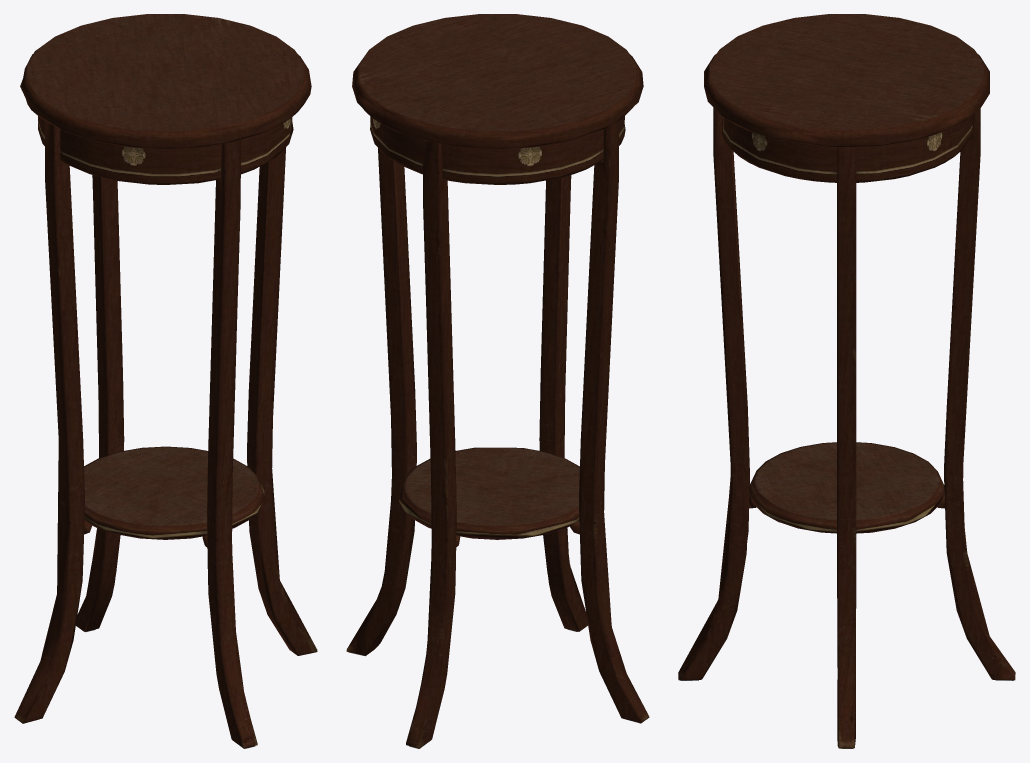
Rendered from side_table_tall_01_lod2.glb.
3 views of the same model, side by side, from view 1: azimuth 30°, elevation 25°; view 2: azimuth 150°, elevation 25°; view 3: azimuth 270°, elevation 25° (orthographic).
Parts seen in each view (by area): view 1: side_table_tall_01; view 2: side_table_tall_01; view 3: side_table_tall_01.
Boxes of the visible parts, x1,y1,x2,y2 form: side_table_tall_01: (14,14,317,748); side_table_tall_01: (346,14,649,748); side_table_tall_01: (678,14,1015,748).
Bounding box in the file's own units: 0.3837 × 0.7611 × 0.3837.
Materials: 1 (1 with a texture image).
